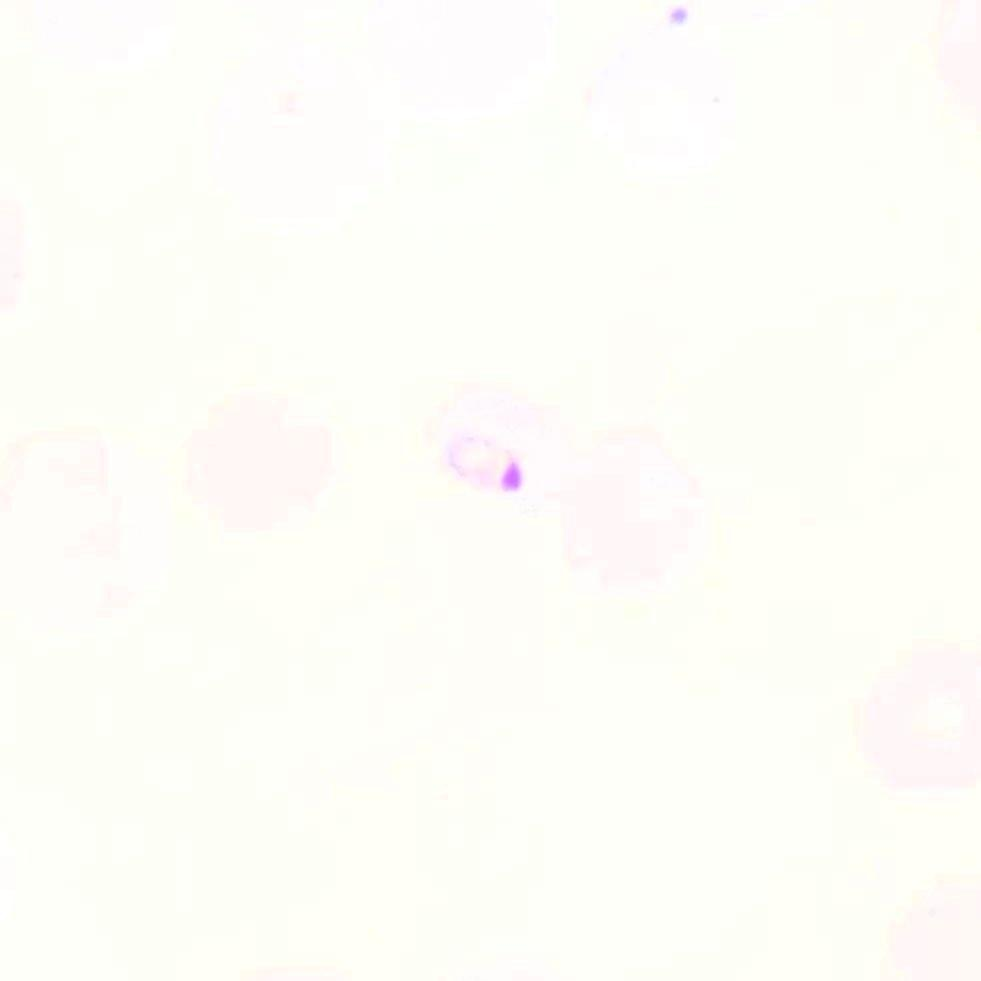Infected: (441, 430, 524, 495)
